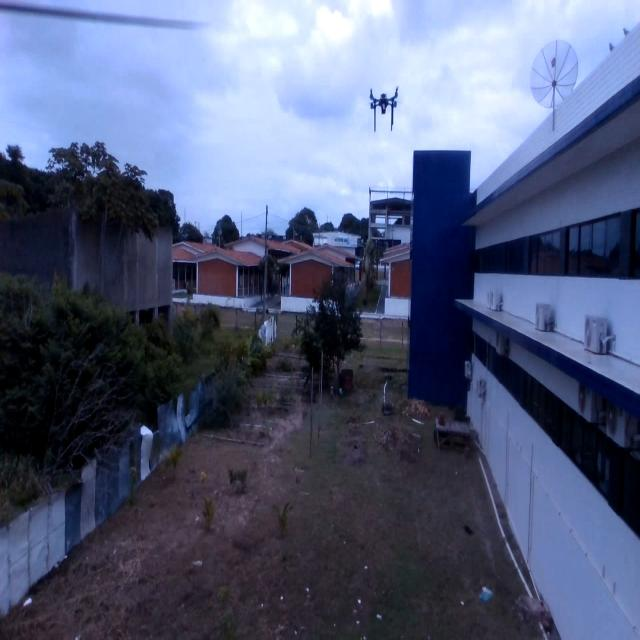-uav-: (361, 76, 411, 142)
